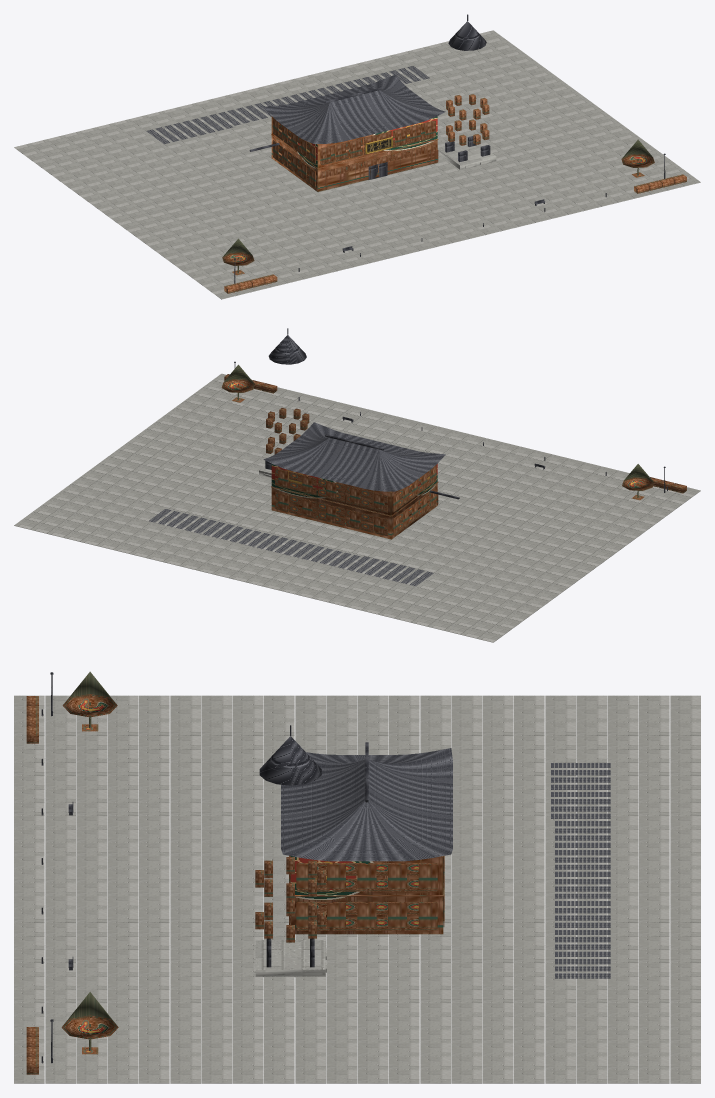
3 views of the same model, one above another, from view 1: azimuth 30°, elevation 25°; view 2: azimuth 150°, elevation 25°; view 3: azimuth 270°, elevation 25° (orthographic). The views are drawn at different scales.
Visible parts, largest first — view 1: 11680_01_06085_005_01__plinth_ground_base, 11680_01_06085_005_03__roof_deck_structure, 11680_01_06085_005_02__mass_body_facade, 11680_01_06085_005_05__window_sash_glass, 11680_01_06085_005_06__landscape_greenery, 11680_01_06085_005_03__roof_metal_ornament, 11680_01_06085_005_05__door_hardware_iron; view 2: 11680_01_06085_005_01__plinth_ground_base, 11680_01_06085_005_03__roof_deck_structure, 11680_01_06085_005_02__mass_body_facade, 11680_01_06085_005_06__landscape_greenery, 11680_01_06085_005_03__roof_metal_ornament, 11680_01_06085_005_05__window_sash_glass; view 3: 11680_01_06085_005_01__plinth_ground_base, 11680_01_06085_005_03__roof_deck_structure, 11680_01_06085_005_02__mass_body_facade, 11680_01_06085_005_06__landscape_greenery, 11680_01_06085_005_05__window_sash_glass, 11680_01_06085_005_03__roof_metal_ornament, 11680_01_06085_005_05__door_hardware_iron.
Boxes of the visible parts, x1,y1,x2,y2 form: 11680_01_06085_005_01__plinth_ground_base: (14,30,700,299); 11680_01_06085_005_03__roof_deck_structure: (146,66,445,143); 11680_01_06085_005_02__mass_body_facade: (271,116,438,191); 11680_01_06085_005_05__window_sash_glass: (320,94,489,185); 11680_01_06085_005_06__landscape_greenery: (222,139,686,293); 11680_01_06085_005_03__roof_metal_ornament: (249,14,486,151); 11680_01_06085_005_05__door_hardware_iron: (234,136,665,283); 11680_01_06085_005_01__plinth_ground_base: (14,373,700,642); 11680_01_06085_005_03__roof_deck_structure: (149,422,445,586); 11680_01_06085_005_02__mass_body_facade: (271,464,438,539); 11680_01_06085_005_06__landscape_greenery: (221,364,686,500); 11680_01_06085_005_03__roof_metal_ornament: (268,328,459,499); 11680_01_06085_005_05__window_sash_glass: (266,408,309,454); 11680_01_06085_005_01__plinth_ground_base: (14,695,700,1083); 11680_01_06085_005_03__roof_deck_structure: (281,748,610,978); 11680_01_06085_005_02__mass_body_facade: (289,856,444,934); 11680_01_06085_005_06__landscape_greenery: (26,671,118,1074); 11680_01_06085_005_05__window_sash_glass: (255,855,325,942); 11680_01_06085_005_03__roof_metal_ornament: (259,725,368,802); 11680_01_06085_005_05__door_hardware_iron: (41,672,314,1063).
Bounding box in the file's own units: 95.95 × 27.4 × 71.95.
7 materials, 7 textured.
